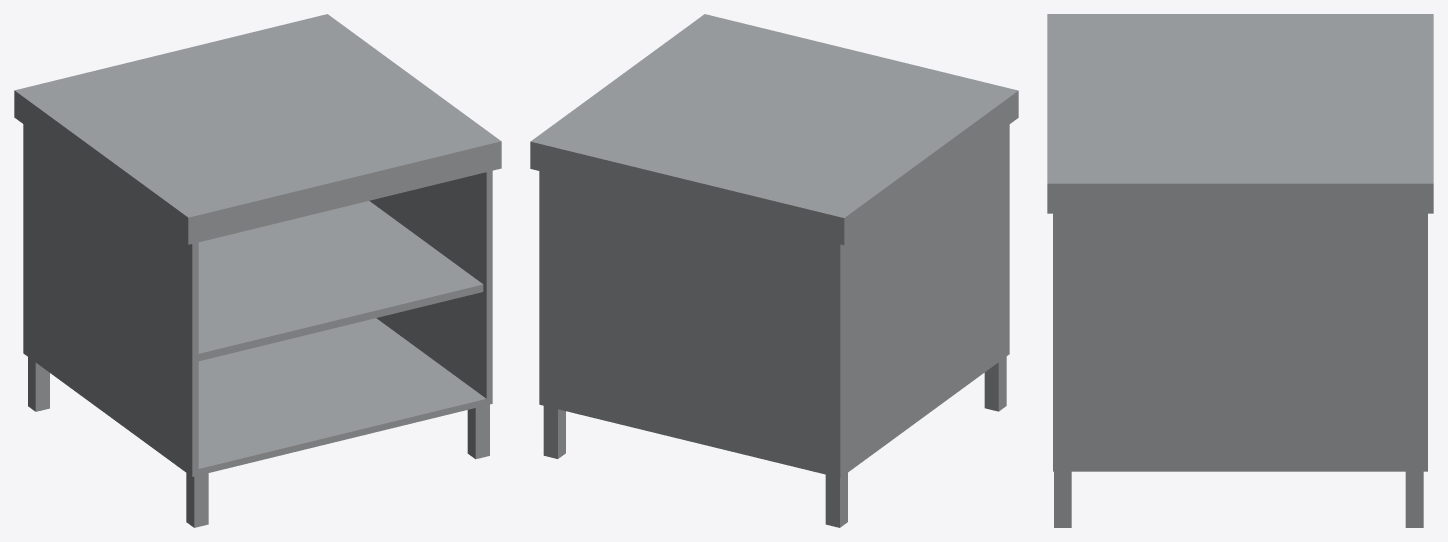
File: SM_table_kitchen_02.fbx
3 views of the same model, side by side, from view 1: azimuth 30°, elevation 25°; view 2: azimuth 150°, elevation 25°; view 3: azimuth 270°, elevation 25° (orthographic). The views are drawn at different scales.
Visible parts, largest first — view 1: Box161; view 2: Box161; view 3: Box161.
Part boxes in pixels (bbox=[...]): Box161: bbox=[14, 14, 501, 527]; Box161: bbox=[530, 14, 1018, 527]; Box161: bbox=[1047, 14, 1433, 527].
Size of the model in its own units: 42.78 by 41.17 by 41.08.
